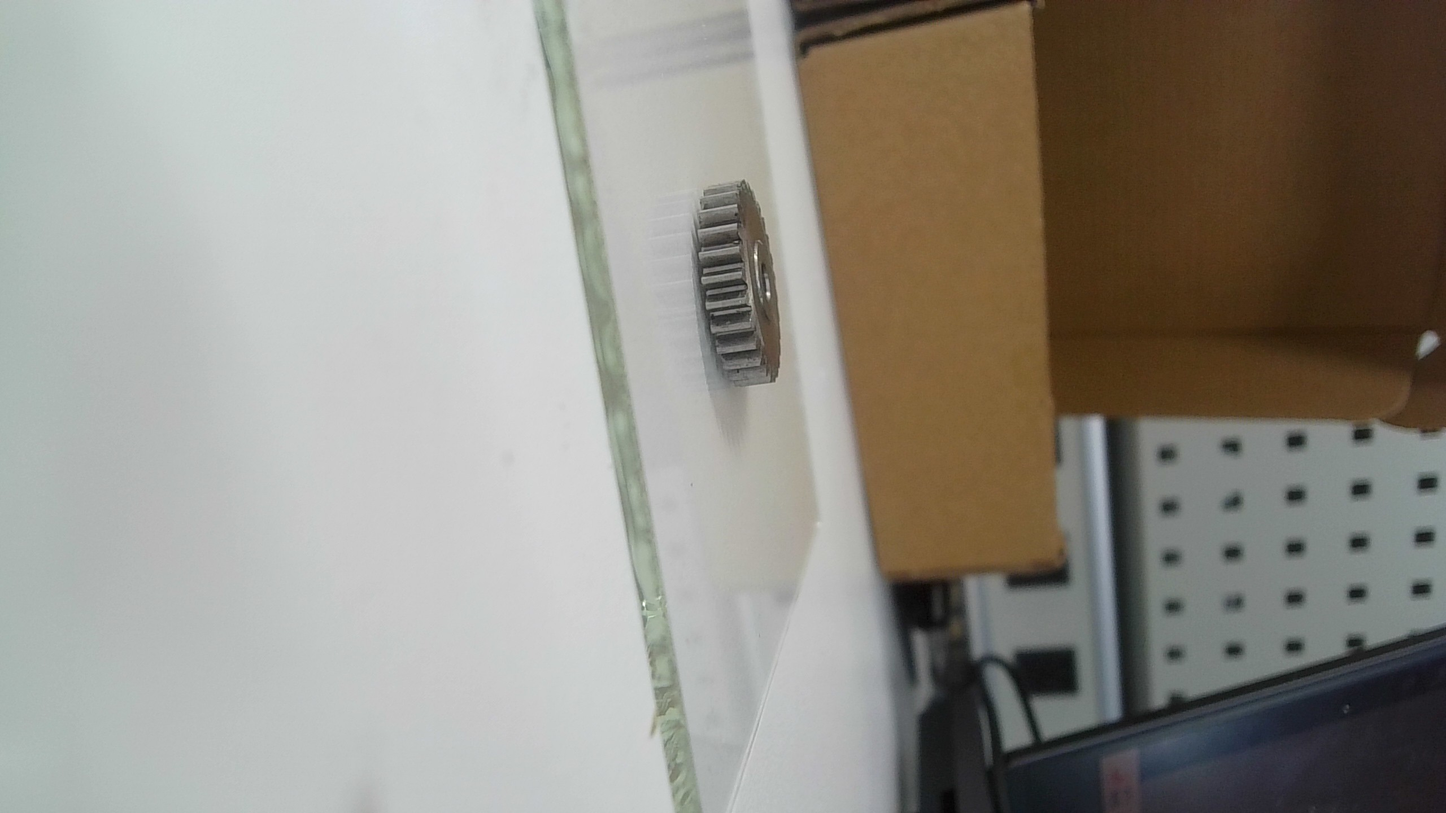gear: (691, 176, 789, 393)
